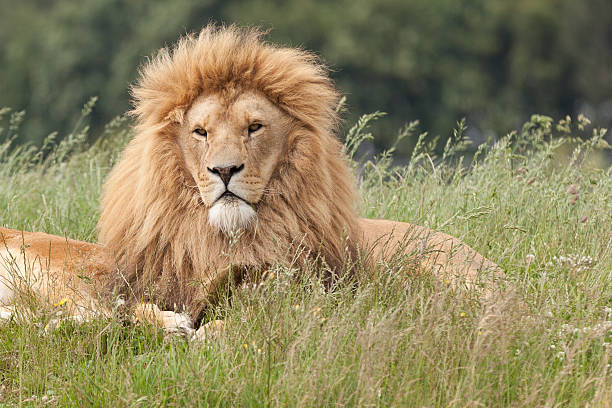lion: (70, 16, 384, 346)
